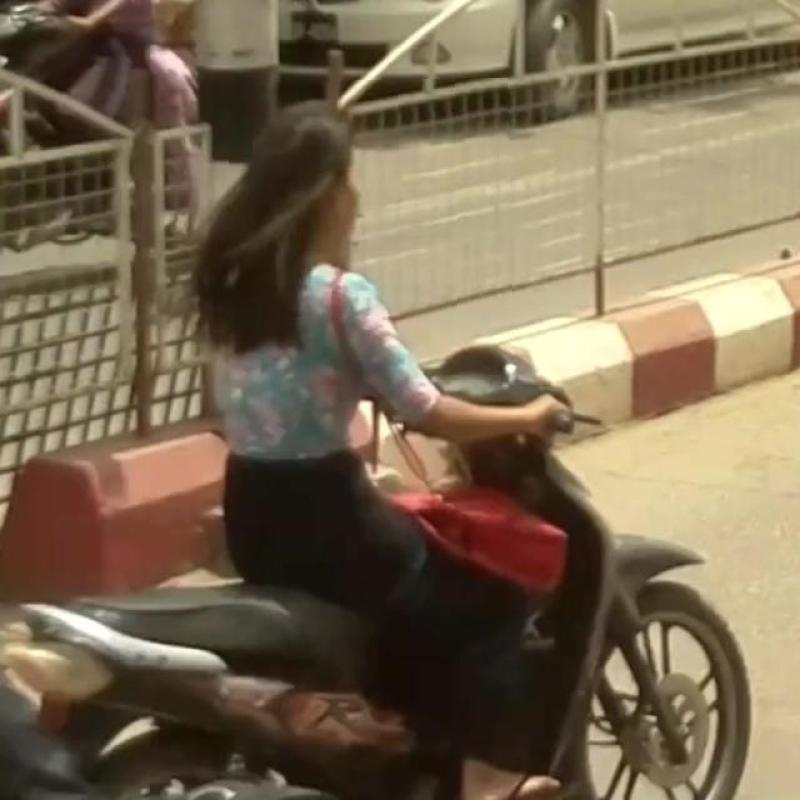nohelmet: (229, 79, 511, 317)
